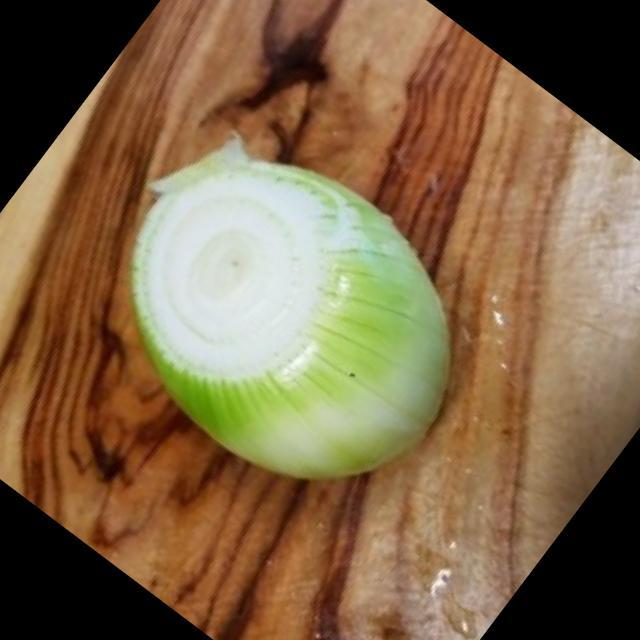Onion: (128, 150, 452, 475)
